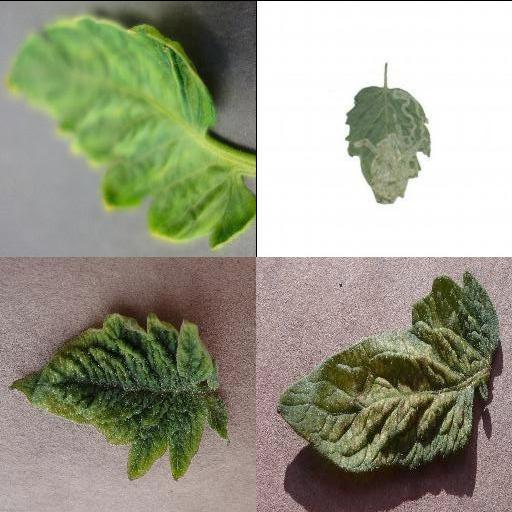Leaf Miner: (343, 84, 433, 204)
Spider Mites: (275, 271, 501, 471)
Yellow Leaf Curl Virus: (4, 14, 256, 248), (8, 313, 230, 479)
